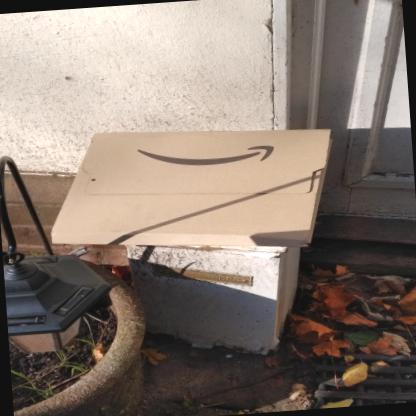box: (53, 129, 334, 252)
